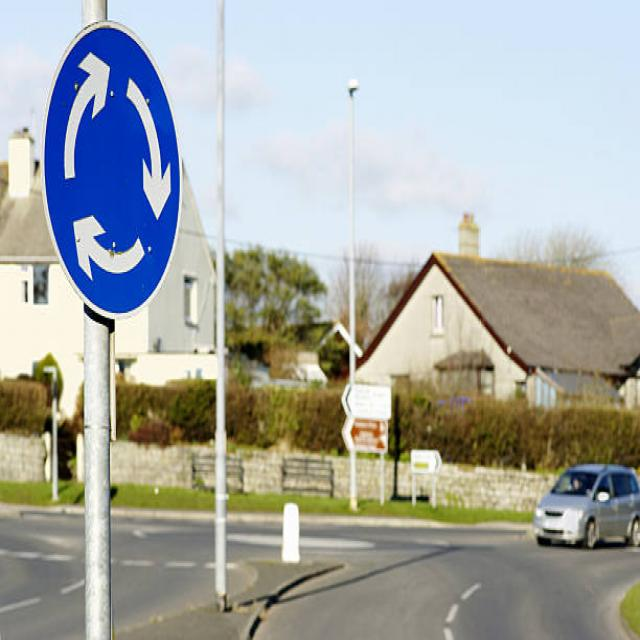round_about: (41, 18, 189, 320)
